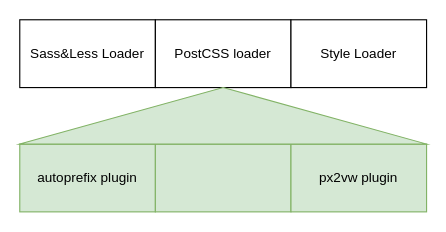
This 446x232 diagram has some shape labels left out. The shapes that lost their labels are listed below. From the top down, each one's centre as x and y in pixels, then its label:
At pixel 223 115: "PostCSS".
At pixel 222 177: "px2rem plugin".
